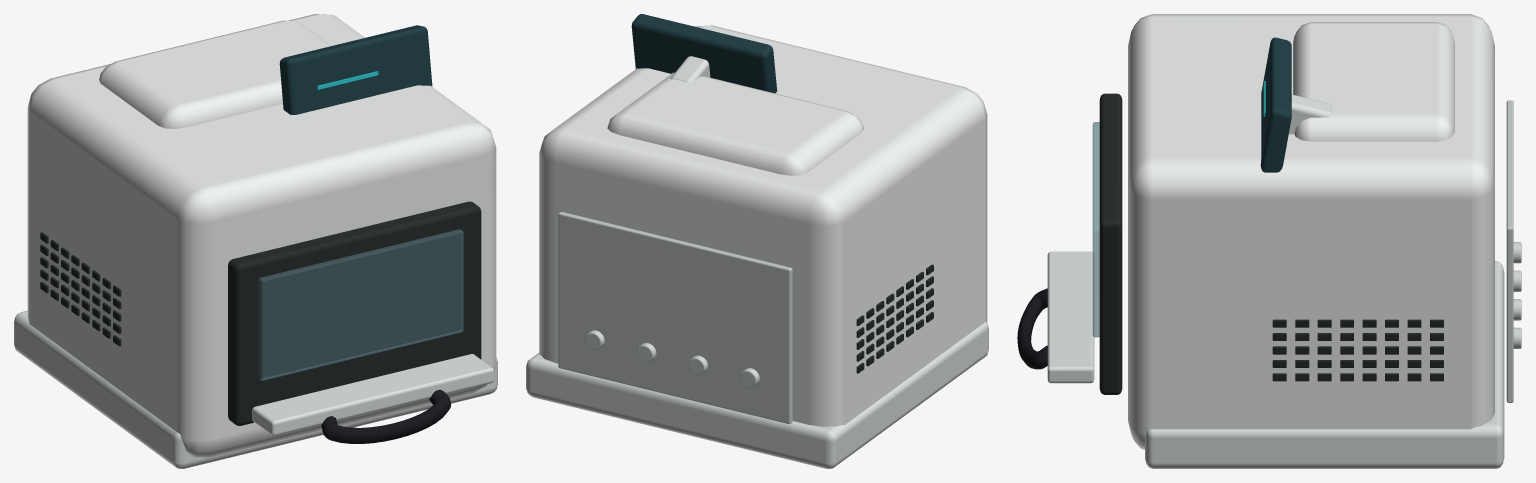
File: gel-doc.glb
The picture shows the model from 3 angles, left to right: view 1: azimuth 30°, elevation 25°; view 2: azimuth 150°, elevation 25°; view 3: azimuth 270°, elevation 25°; orthographic projection. The views are drawn at different scales.
Visible parts, largest first — view 1: Runtime batch - Cool white instrument polymer, Runtime batch - Casework seam shadow, Runtime batch - Washer observation glass, Runtime batch - Light bead-blasted aluminum, Runtime batch - Smoked control display, Runtime batch - Matte black coated handle; view 2: Runtime batch - Cool white instrument polymer, Runtime batch - Light instrument gray powder coat, Runtime batch - Light bead-blasted aluminum, Runtime batch - Smoked control display, Runtime batch - Casework seam shadow, Runtime batch - Brushed analytical silver; view 3: Runtime batch - Cool white instrument polymer, Runtime batch - Light bead-blasted aluminum, Runtime batch - Casework seam shadow, Runtime batch - Smoked control display, Runtime batch - Light instrument gray powder coat, Runtime batch - Washer observation glass, Runtime batch - Matte black coated handle, Runtime batch - Brushed analytical silver.
Boxes of the visible parts, box(x1,y1,x2,y2) form: Runtime batch - Cool white instrument polymer: box(27, 14, 496, 457); Runtime batch - Casework seam shadow: box(40, 201, 481, 425); Runtime batch - Washer observation glass: box(258, 229, 463, 380); Runtime batch - Light bead-blasted aluminum: box(14, 310, 497, 468); Runtime batch - Smoked control display: box(279, 25, 432, 114); Runtime batch - Matte black coated handle: box(321, 389, 450, 443); Runtime batch - Cool white instrument polymer: box(539, 25, 987, 426); Runtime batch - Light instrument gray powder coat: box(558, 212, 792, 424); Runtime batch - Light bead-blasted aluminum: box(526, 56, 988, 468); Runtime batch - Smoked control display: box(631, 14, 777, 93); Runtime batch - Casework seam shadow: box(856, 264, 933, 373); Runtime batch - Brushed analytical silver: box(585, 330, 759, 387); Runtime batch - Cool white instrument polymer: box(1128, 14, 1494, 449); Runtime batch - Light bead-blasted aluminum: box(1047, 94, 1504, 468); Runtime batch - Casework seam shadow: box(1099, 93, 1443, 394); Runtime batch - Smoked control display: box(1260, 37, 1291, 172); Runtime batch - Light instrument gray powder coat: box(1506, 100, 1513, 402); Runtime batch - Washer observation glass: box(1092, 122, 1099, 337); Runtime batch - Matte black coated handle: box(1017, 288, 1047, 369); Runtime batch - Brushed analytical silver: box(1513, 242, 1521, 348).
Size of the model in its own units: 0.36 by 0.3518 by 0.448.
